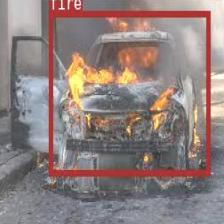fire: (48, 11, 210, 175)
